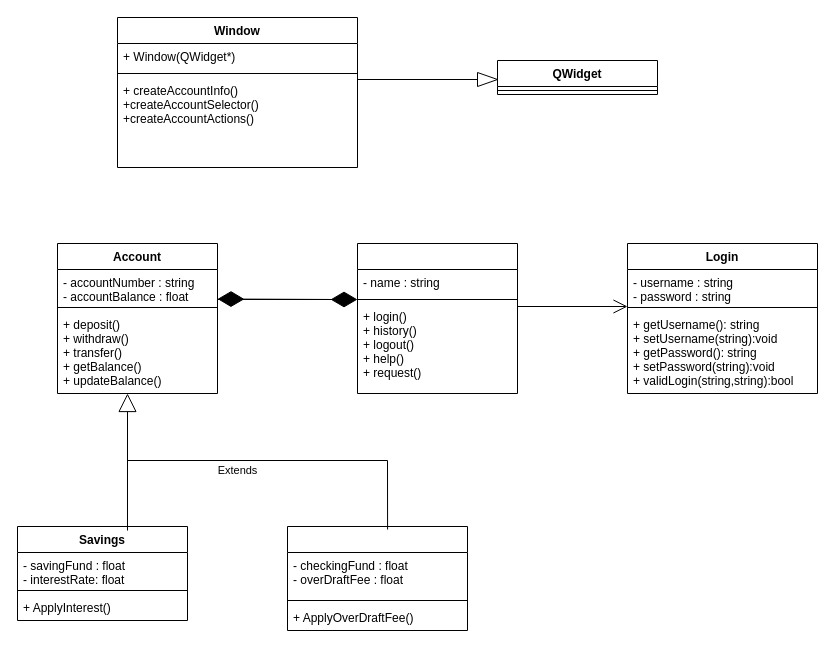
The diagram is 835 pixels wide and 651 high, and some of its shapes have lost their labels. Each missing label, with the box of its shape:
Checkings: (286, 526, 468, 630)
User: (356, 242, 518, 394)
